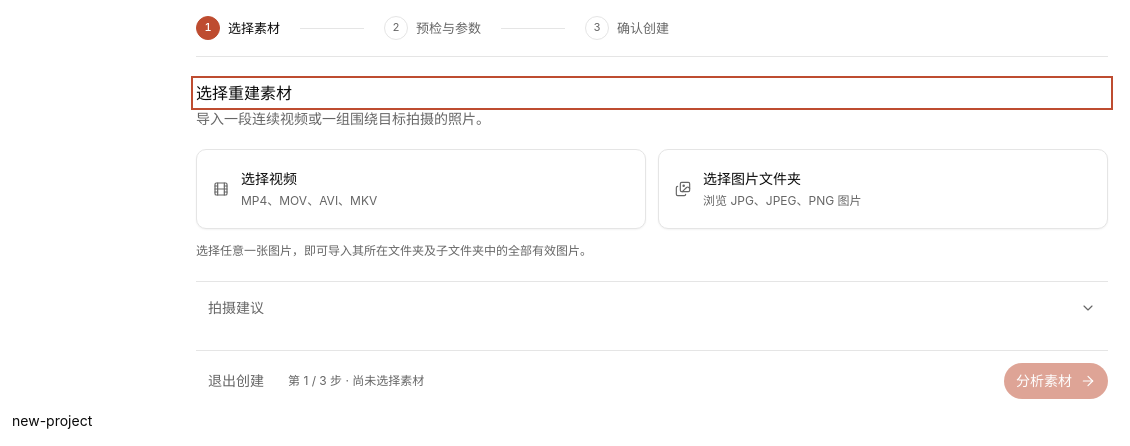
Test: NewProjectPage › exits an untouched wizard without a confirmation
Click the button named "关闭新建项目" at (236, 380), box x1=196 y1=364 x2=276 y2=396
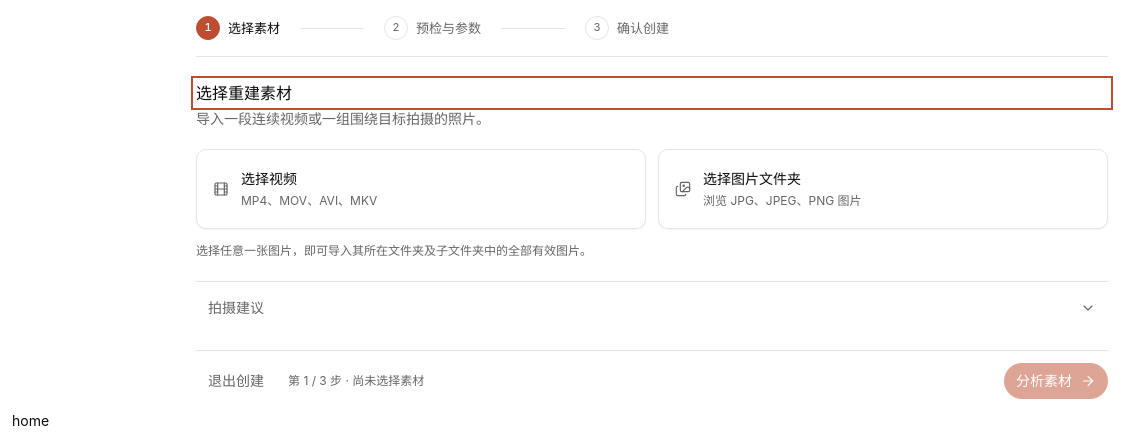
expect the text with test id "page" reads "home": met, box x1=12 y1=412 x2=49 y2=428
